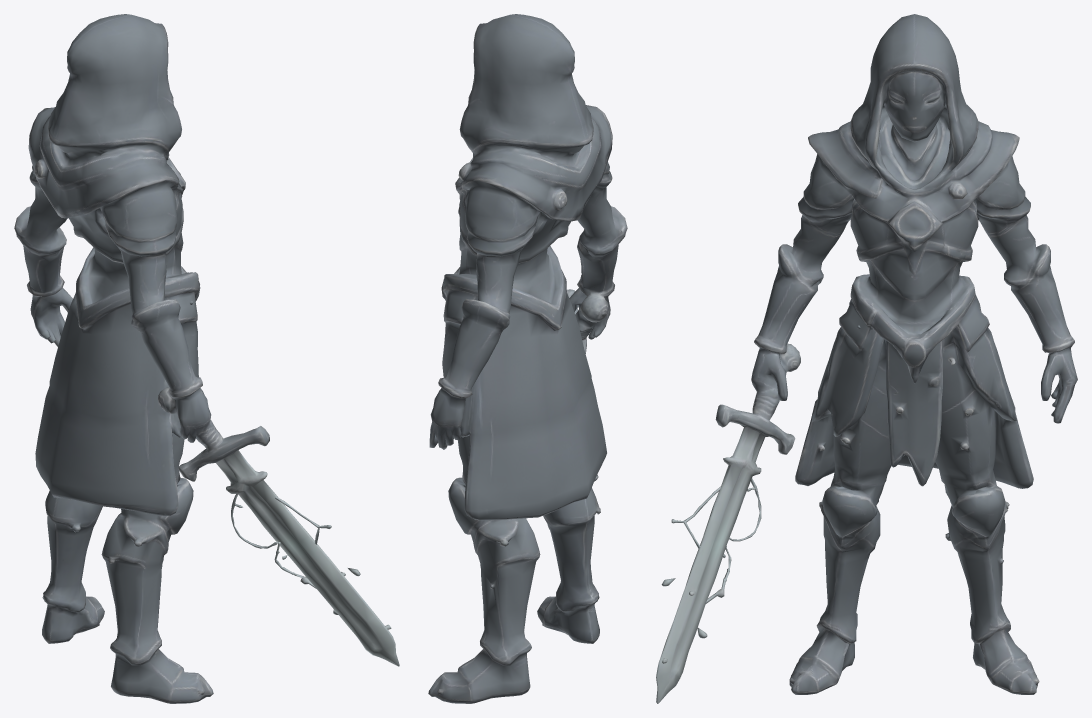
3 views of the same model, side by side, from view 1: azimuth 30°, elevation 25°; view 2: azimuth 150°, elevation 25°; view 3: azimuth 270°, elevation 25° (orthographic).
Parts seen in each view (by area): view 1: tripo_node_c6bd9d8e-d240-4388-ae70-ad5787f89589; view 2: tripo_node_c6bd9d8e-d240-4388-ae70-ad5787f89589; view 3: tripo_node_c6bd9d8e-d240-4388-ae70-ad5787f89589.
Part boxes in pixels (x1=…): tripo_node_c6bd9d8e-d240-4388-ae70-ad5787f89589: x1=14, y1=14, x2=399, y2=703; tripo_node_c6bd9d8e-d240-4388-ae70-ad5787f89589: x1=428, y1=14, x2=627, y2=703; tripo_node_c6bd9d8e-d240-4388-ae70-ad5787f89589: x1=656, y1=14, x2=1077, y2=703.
Size of the model in its own units: 0.3581 by 1 by 0.5812.
Materials: 1 (1 with a texture image).
